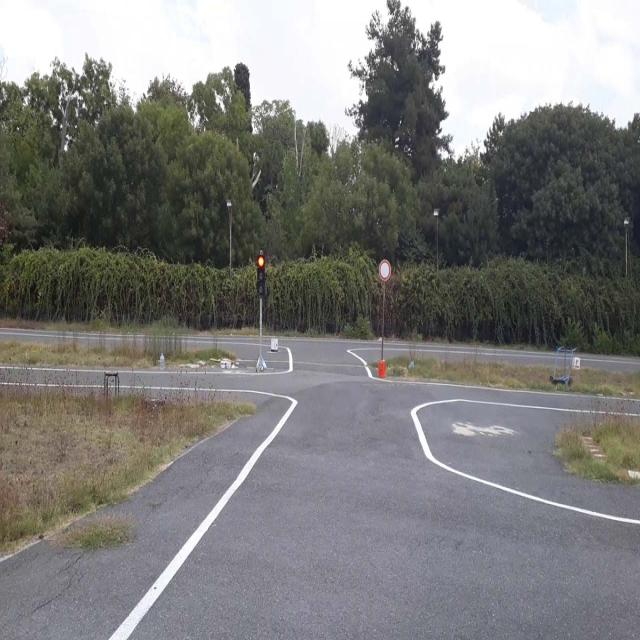kirmizi: (257, 254, 265, 296)
